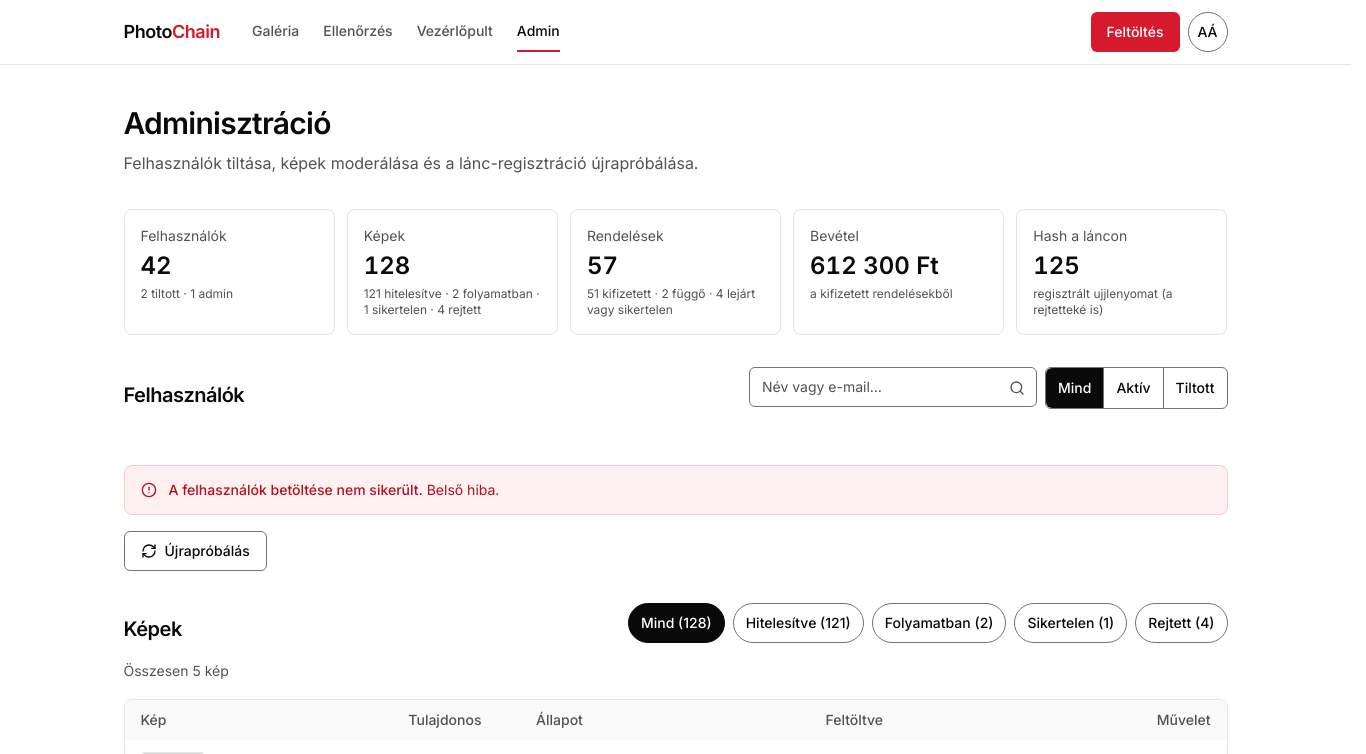
Test: AdminPage – betöltési hibák › a felhasználók betöltési hibája: riasztás és Újrapróbálás; siker után a fókusz a találatszámra
expect the message reads "A felhasználók betöltése nem sikerült. Belső hiba.": met, box [124,465,1228,515]
expect the text "Összesen 5 kép" is shown: met, box [124,662,229,679]
What coordinates should you click on to do the following:
click the button "Újrapróbálás"
I would click on:
 (195, 551)
Its box is [124,531,267,571].
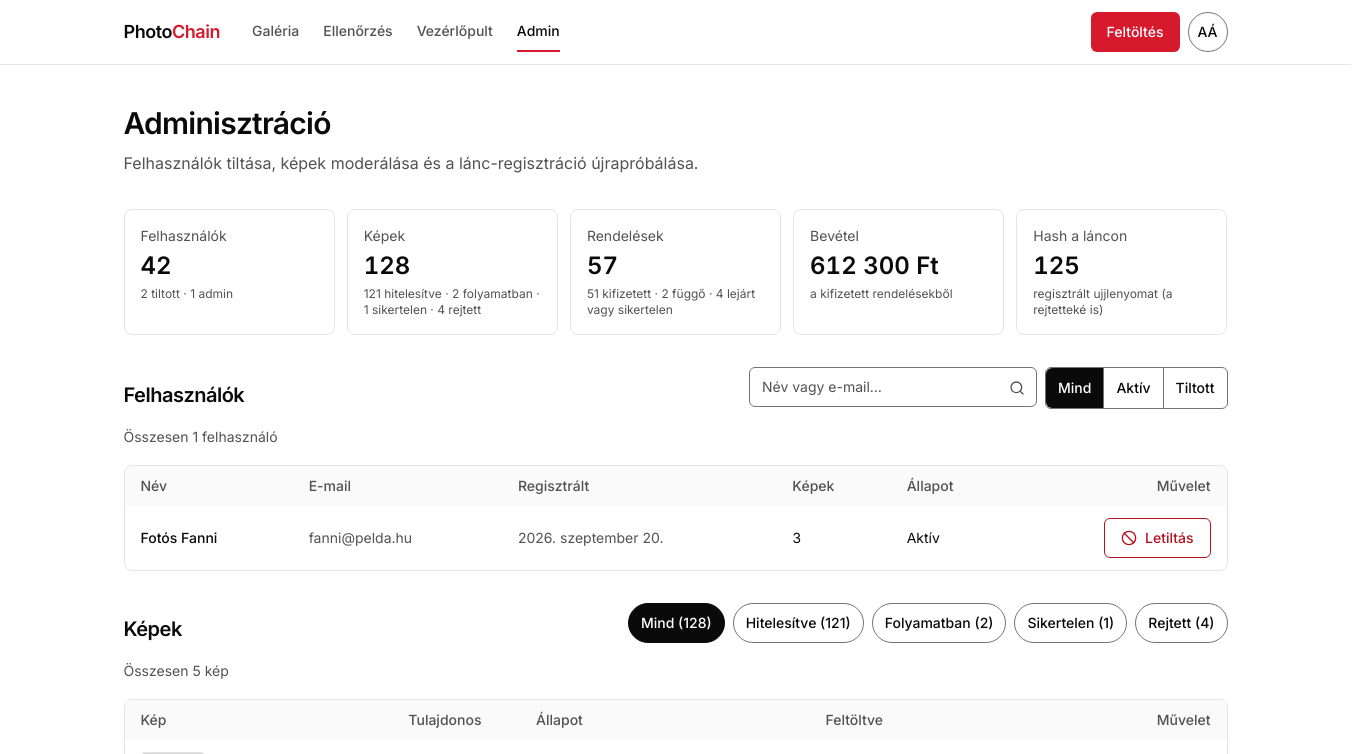
expect the text "Összesen 1 felhasználó" is shown: met, box [124,428,278,445]
expect the message "A felhasználók betöltése nem sikerült. Belső hiba." is gone: met
